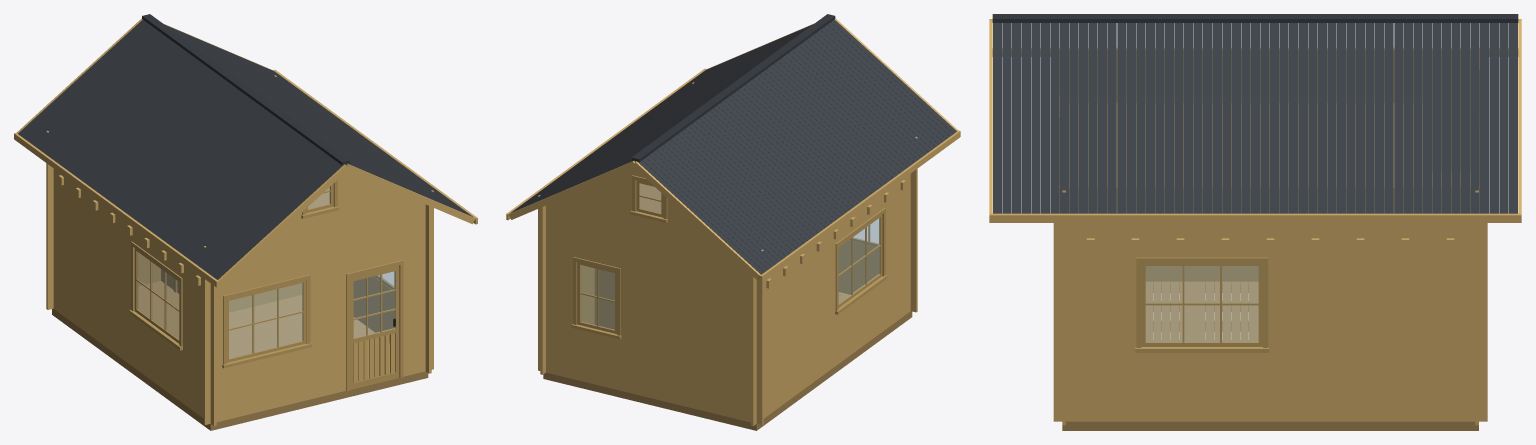
File: орион_4_5_44_мм_мезонин_санузел.glb
3 renders of one model, left to right at view 1: azimuth 30°, elevation 25°; view 2: azimuth 150°, elevation 25°; view 3: azimuth 270°, elevation 25°, orthographic. The views are drawn at different scales.
Parts seen in each view (by area): view 1: roof, walls, floor, object 38, Орион 4×5 (44 мм, мезонин, санузел), object 93, object 15, object 21, object 22, object 3, object 45, object 2; view 2: walls, roof, Орион 4×5 (44 мм, мезонин, санузел), object 93, object 82, object 72, slab; view 3: roof, walls, object 105, floor, Орион 4×5 (44 мм, мезонин, санузел), slab, object 112, object 111, object 104, object 109, object 110.
Part boxes in pixels (x1,y1,x2,y2): roof: (14,14,477,287); walls: (46,75,433,425); floor: (138,281,389,380); object 38: (229,283,302,358); Орион 4×5 (44 мм, мезонин, санузел): (52,308,428,430); object 93: (137,252,178,339); object 15: (354,271,394,338); object 21: (346,273,350,390); object 22: (399,260,403,377); object 3: (394,265,399,376); object 45: (222,343,311,368); object 2: (350,276,353,388); walls: (538,82,917,426); roof: (506,14,960,281); Орион 4×5 (44 мм, мезонин, санузел): (543,311,912,430); object 93: (839,218,879,303); object 82: (581,265,614,329); object 72: (639,183,660,213); slab: (640,183,661,212); roof: (989,14,1521,222); walls: (1053,48,1487,425); object 105: (1146,266,1258,342); floor: (1145,281,1258,341); Орион 4×5 (44 мм, мезонин, санузел): (1062,284,1478,430); slab: (1069,103,1470,185); object 112: (1135,347,1268,352); object 111: (1136,257,1268,262); object 104: (1143,341,1262,346); object 109: (1136,257,1141,347); object 110: (1263,257,1268,347).
Bounding box in the file's own units: 4.56 × 4.38 × 6.13.
